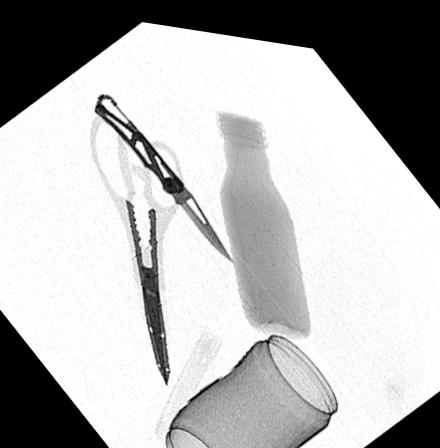Knife: (94, 89, 235, 255)
Scissors: (86, 105, 187, 380)
